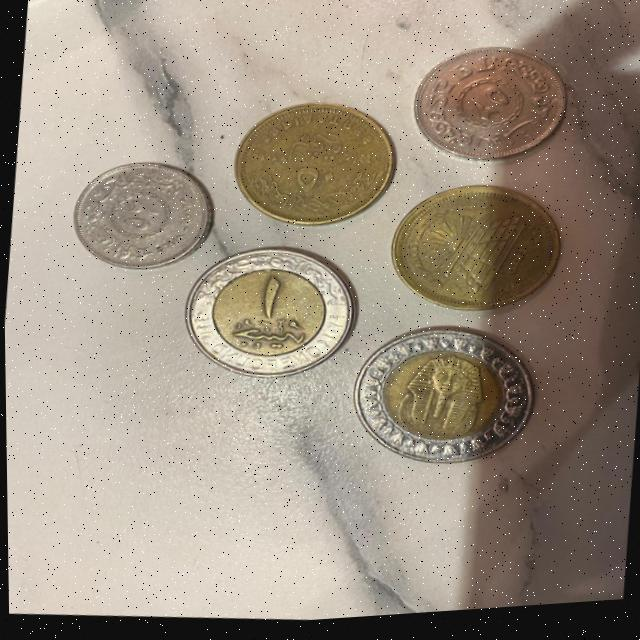Half Pound: (384, 171, 569, 331)
One Pound: (352, 321, 538, 474)
quarter pound: (405, 39, 577, 179)
